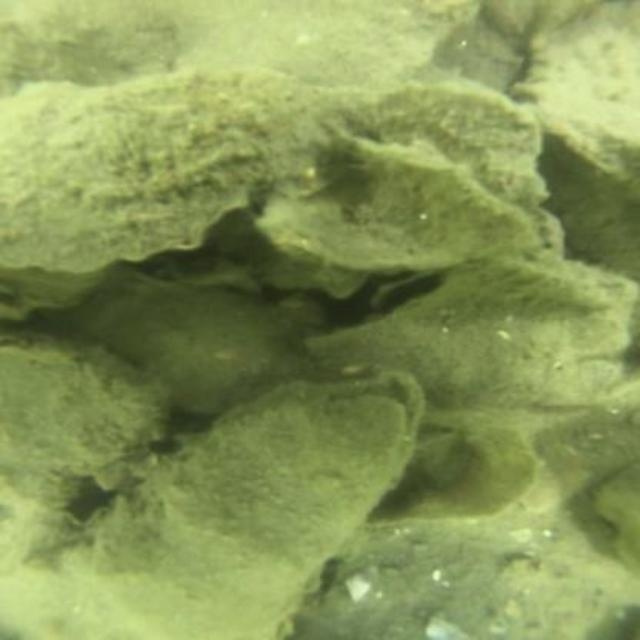Oyster-Closed: (87, 370, 429, 638), (0, 72, 376, 279), (306, 255, 630, 428), (264, 142, 564, 269), (345, 83, 563, 256), (0, 325, 163, 530), (74, 278, 305, 409), (294, 549, 623, 638), (155, 0, 490, 82), (357, 411, 543, 529), (502, 4, 638, 144)
Oyster-Open: (364, 267, 456, 319)
